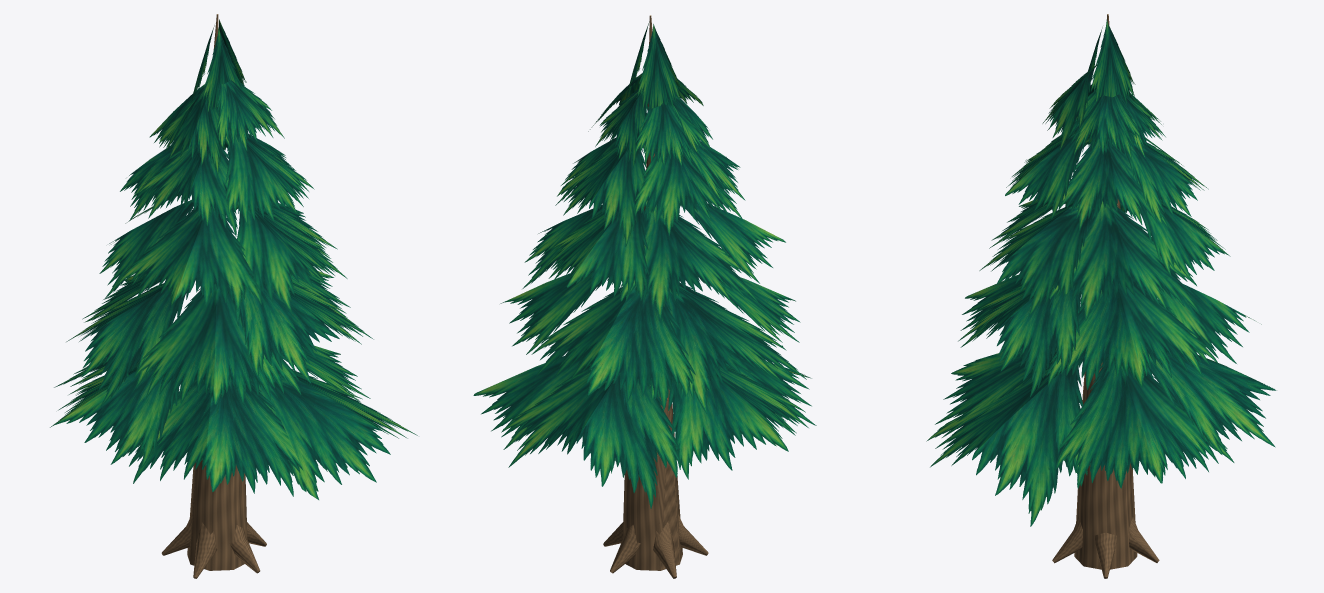
The model's file is source_3.glb.
The picture shows the model from 3 angles, left to right: view 1: azimuth 30°, elevation 25°; view 2: azimuth 150°, elevation 25°; view 3: azimuth 270°, elevation 25°; orthographic projection.
Parts seen in each view (by area): view 1: Tapered harvest trunk; view 2: Tapered harvest trunk; view 3: Tapered harvest trunk.
Boxes of the visible parts, left/top/right/bottom form: Tapered harvest trunk: left=50, top=14, right=417, bottom=578; Tapered harvest trunk: left=473, top=15, right=816, bottom=578; Tapered harvest trunk: left=926, top=14, right=1276, bottom=578.
Bounding box in the file's own units: 7.62 × 11.41 × 7.98.
3 materials, 2 textured.
